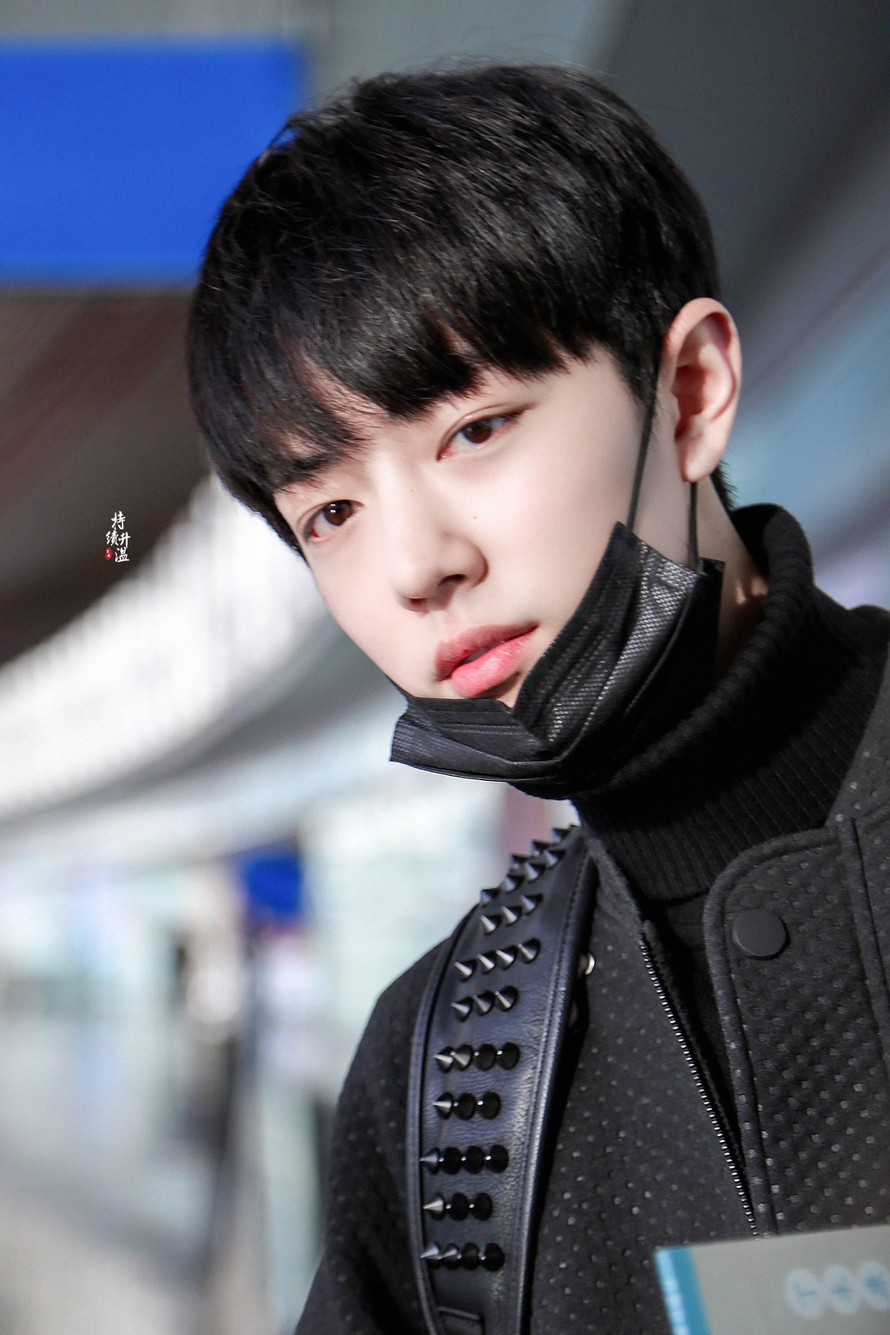WRONG: (270, 343, 644, 754)
